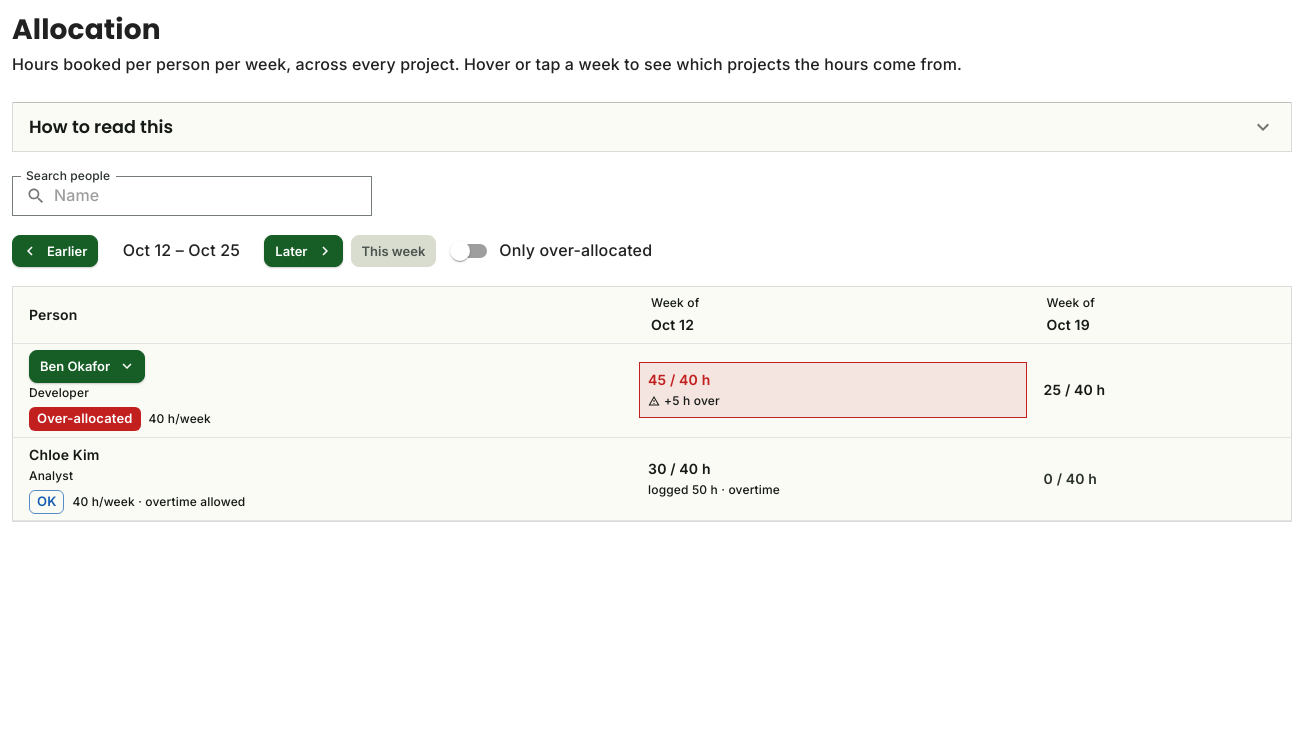
Test: AllocationPage › says which projects the hours come from
This screenshot has width=1304, height=732.
Check: the element named "week of oct 12: 45 of 40 hours booked (apollo 25 h, zeus 20 h)" is shown, box [639,362,1027,418]
Hover over the text "45 / 40 h" at {"x": 679, "y": 380}, box [648,371,710,388]
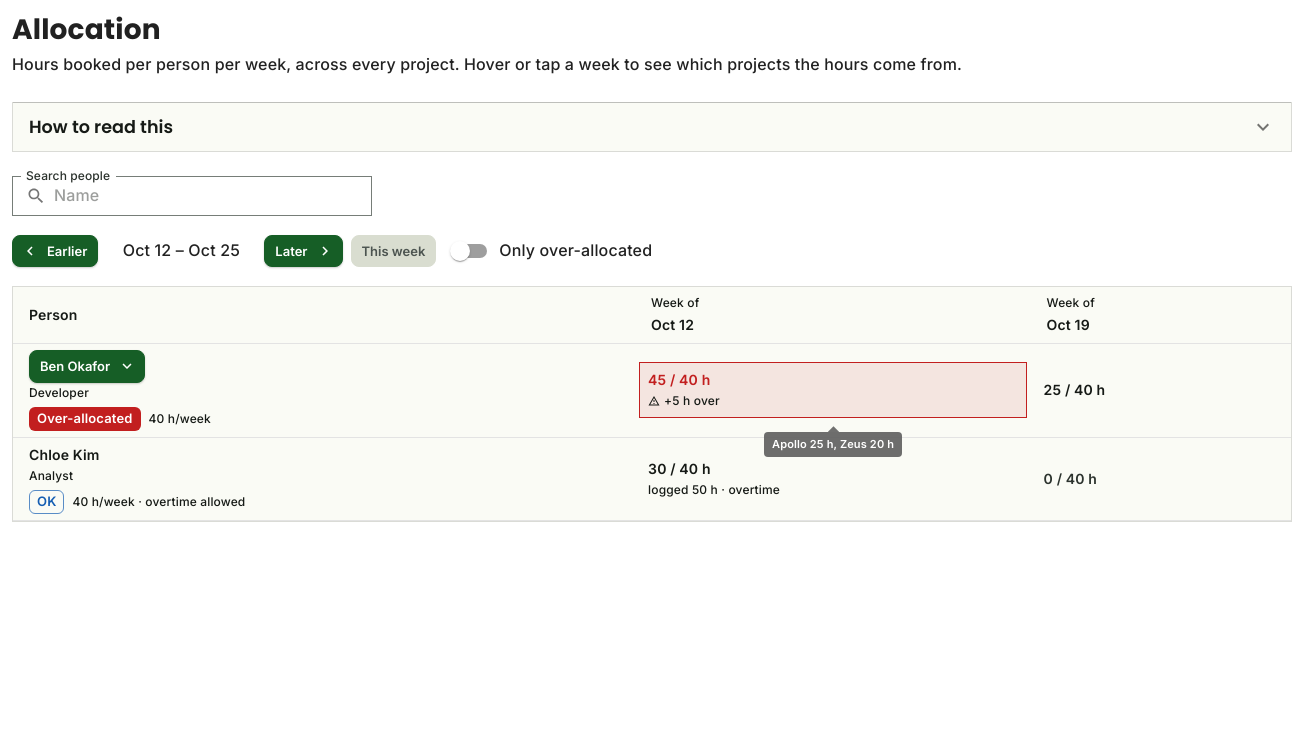
Check: the tooltip reads "Apollo 25 h, Zeus 20 h", box [772,437,894,451]
